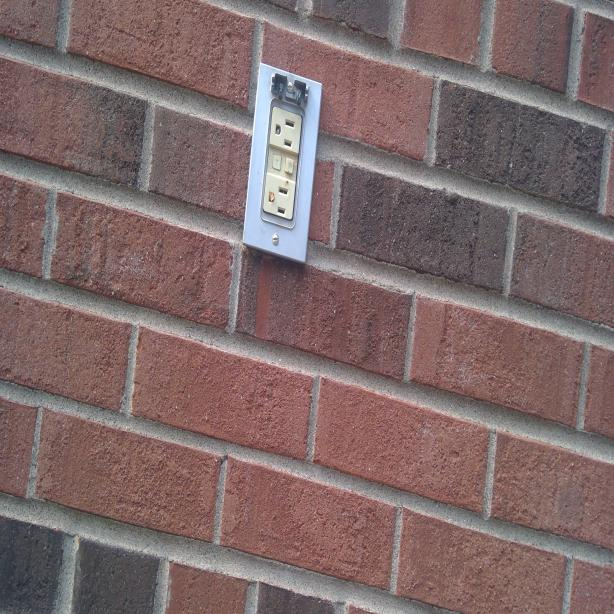typeb: (270, 112, 302, 150), (265, 182, 295, 218)
